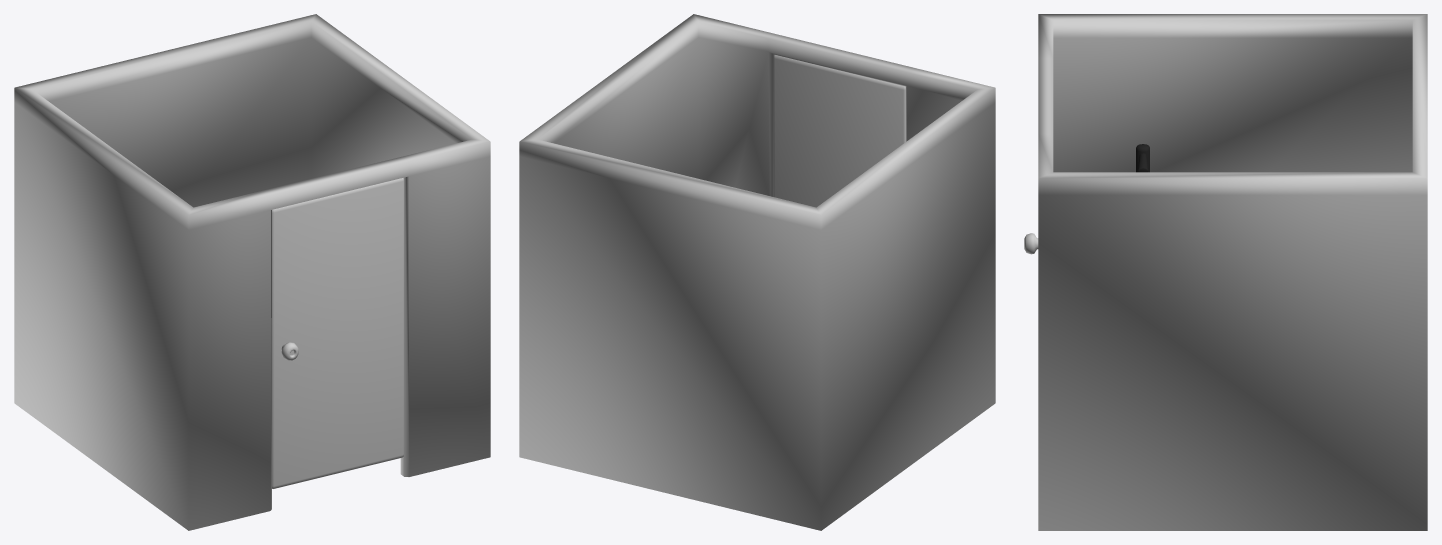
3 renders of one model, left to right at view 1: azimuth 30°, elevation 25°; view 2: azimuth 150°, elevation 25°; view 3: azimuth 270°, elevation 25°, orthographic. The views are drawn at different scales.
Parts seen in each view (by area): view 1: Wc, Wc-Door; view 2: Wc, Wc-Door; view 3: Wc.
Part boxes in pixels (bbox=[...]): Wc: bbox=[14, 14, 490, 530]; Wc-Door: bbox=[272, 178, 403, 488]; Wc: bbox=[519, 14, 995, 530]; Wc-Door: bbox=[773, 54, 905, 207]; Wc: bbox=[1038, 14, 1427, 530].
Size of the model in its own units: 2 by 2 by 2.07.
